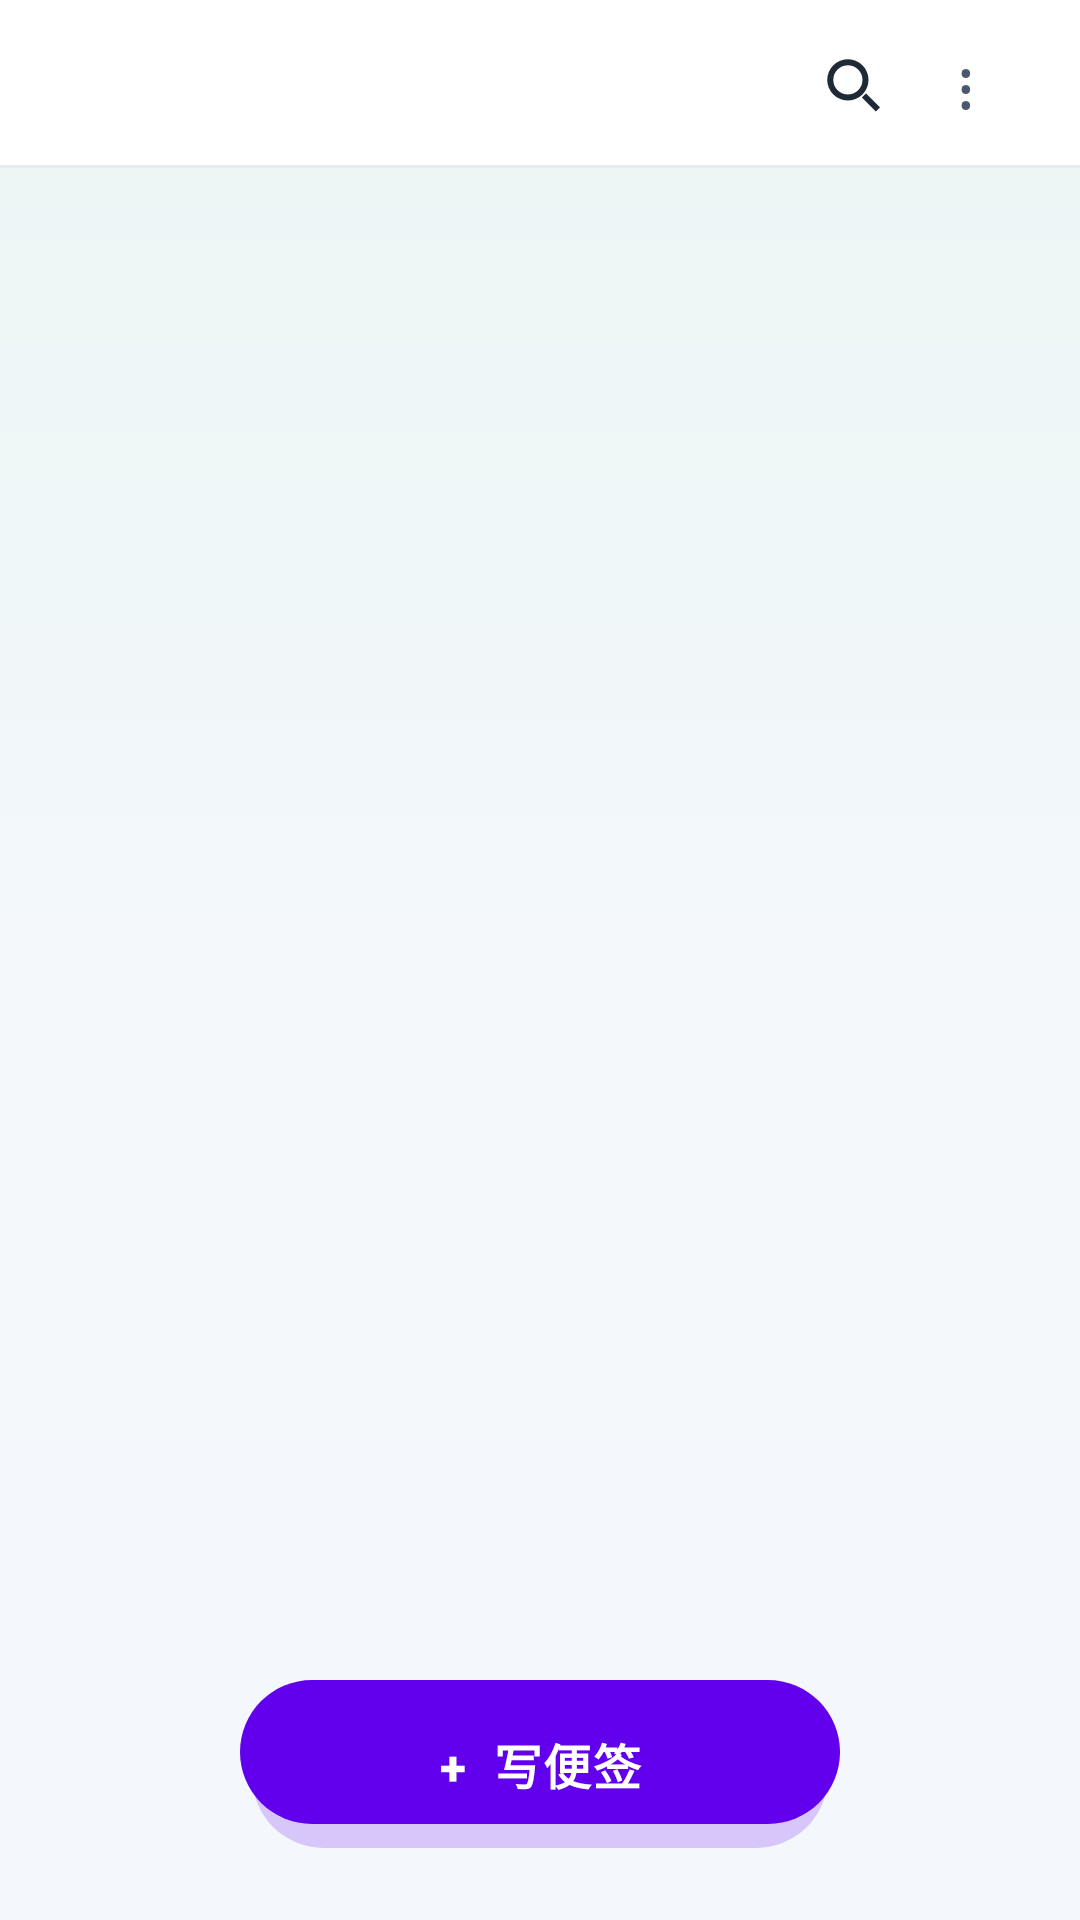

Screen size 1080x1920. Icon name, then its center in pixels as (x=x, y=y):
Search: (x=853, y=85)
